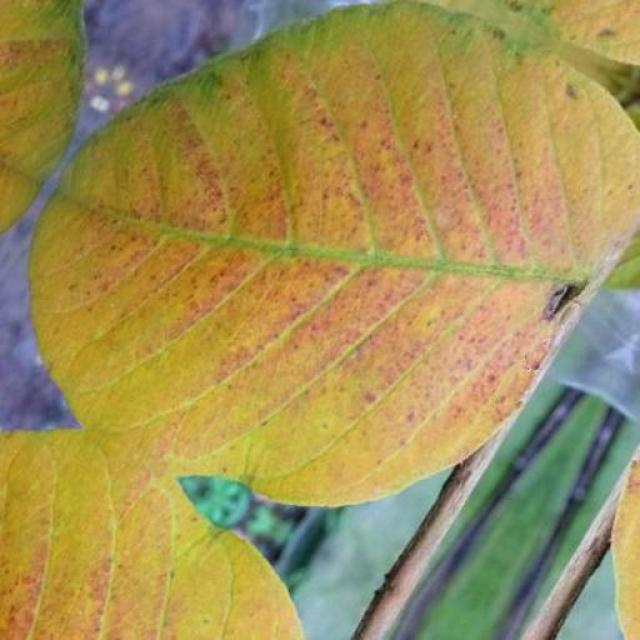Rust: (32, 4, 640, 504)
